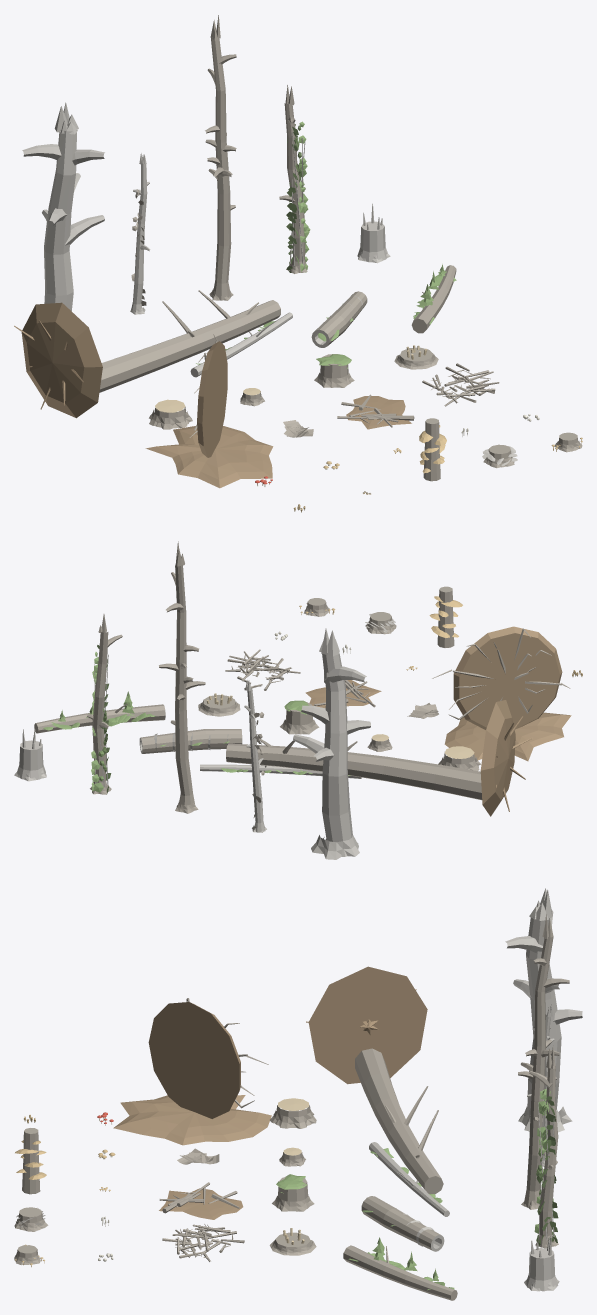
File: temperate-forest-ecology-deadwood-and-fungi-study-a475867d__3886.glb
3 views of the same model, one above another, from view 1: azimuth 30°, elevation 25°; view 2: azimuth 150°, elevation 25°; view 3: azimuth 270°, elevation 25° (orthographic). The views are drawn at different scales.
Visible parts, largest first — view 1: 013-windthrow-root-plate/0, 005-fallen-oak-trunk/1, 000-oak-snag-standing/0, 005-fallen-oak-trunk/0, 002-spruce-snag-standing/0, 003-ivy-clad-stem/0, 001-birch-snag-standing/0, 003-ivy-clad-stem/1, 016-brash-pile/0, 015-branch-scatter/1, 007-rotting-log-hollow/0, 004-burnt-stump/0 (+7 smaller); view 2: 013-windthrow-root-plate/0, 000-oak-snag-standing/0, 005-fallen-oak-trunk/0, 002-spruce-snag-standing/0, 005-fallen-oak-trunk/1, 003-ivy-clad-stem/0, 007-rotting-log-hollow/0, 008-nurse-log-with-seedlings/0, 001-birch-snag-standing/0, 016-brash-pile/0, 013-windthrow-root-plate/1, 004-burnt-stump/0 (+10 smaller); view 3: 013-windthrow-root-plate/0, 005-fallen-oak-trunk/1, 005-fallen-oak-trunk/0, 000-oak-snag-standing/0, 002-spruce-snag-standing/0, 003-ivy-clad-stem/0, 008-nurse-log-with-seedlings/0, 007-rotting-log-hollow/0, 003-ivy-clad-stem/1, 015-branch-scatter/1, 016-brash-pile/0, 004-burnt-stump/0 (+7 smaller).
Boxes of the visible parts, bbox=[...] form: 013-windthrow-root-plate/0: bbox=[145, 341, 273, 488]; 005-fallen-oak-trunk/1: bbox=[14, 302, 102, 418]; 000-oak-snag-standing/0: bbox=[22, 102, 104, 311]; 005-fallen-oak-trunk/0: bbox=[99, 290, 280, 392]; 002-spruce-snag-standing/0: bbox=[205, 15, 236, 300]; 003-ivy-clad-stem/0: bbox=[279, 85, 307, 273]; 001-birch-snag-standing/0: bbox=[130, 153, 150, 314]; 003-ivy-clad-stem/1: bbox=[286, 121, 310, 272]; 016-brash-pile/0: bbox=[422, 363, 499, 406]; 015-branch-scatter/1: bbox=[346, 396, 411, 429]; 007-rotting-log-hollow/0: bbox=[316, 291, 367, 345]; 004-burnt-stump/0: bbox=[357, 221, 390, 263]; 013-windthrow-root-plate/0: bbox=[444, 626, 571, 761]; 000-oak-snag-standing/0: bbox=[293, 628, 370, 859]; 005-fallen-oak-trunk/0: bbox=[226, 738, 482, 800]; 002-spruce-snag-standing/0: bbox=[159, 541, 205, 813]; 005-fallen-oak-trunk/1: bbox=[480, 700, 532, 816]; 003-ivy-clad-stem/0: bbox=[87, 614, 122, 794]; 007-rotting-log-hollow/0: bbox=[140, 729, 242, 753]; 008-nurse-log-with-seedlings/0: bbox=[34, 703, 165, 733]; 001-birch-snag-standing/0: bbox=[244, 680, 266, 832]; 016-brash-pile/0: bbox=[225, 649, 300, 690]; 013-windthrow-root-plate/1: bbox=[432, 628, 570, 719]; 004-burnt-stump/0: bbox=[14, 740, 46, 781]; 013-windthrow-root-plate/0: bbox=[113, 1002, 271, 1145]; 005-fallen-oak-trunk/1: bbox=[306, 966, 427, 1084]; 005-fallen-oak-trunk/0: bbox=[355, 1048, 443, 1194]; 000-oak-snag-standing/0: bbox=[505, 888, 582, 1132]; 002-spruce-snag-standing/0: bbox=[518, 914, 569, 1209]; 003-ivy-clad-stem/0: bbox=[529, 1046, 558, 1248]; 008-nurse-log-with-seedlings/0: bbox=[343, 1245, 457, 1300]; 007-rotting-log-hollow/0: bbox=[361, 1196, 440, 1250]; 003-ivy-clad-stem/1: bbox=[534, 1089, 558, 1246]; 015-branch-scatter/1: bbox=[159, 1188, 243, 1219]; 016-brash-pile/0: bbox=[162, 1224, 244, 1261]; 004-burnt-stump/0: bbox=[524, 1248, 559, 1291].
Bounding box in the file's own units: 17.87 × 10.32 × 18.2.
